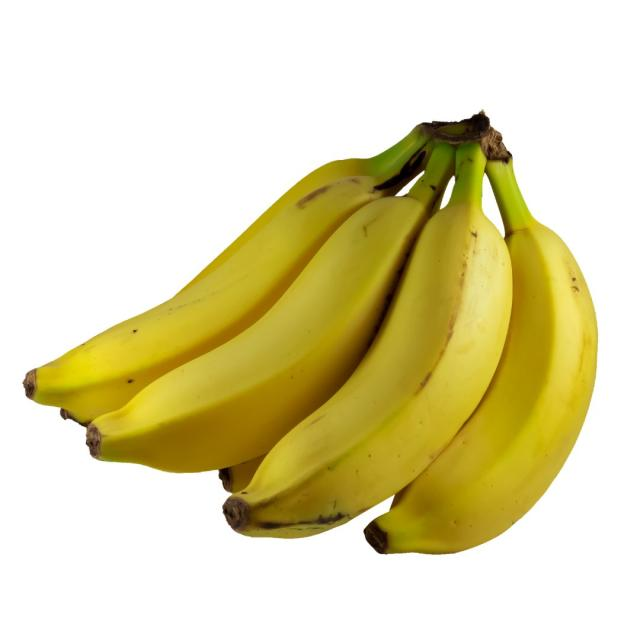Pisang: (24, 113, 598, 555)
